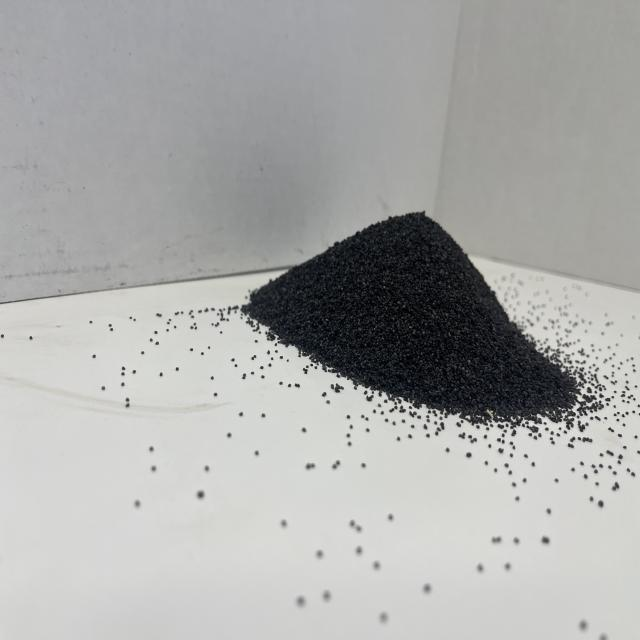Poppy Seeds: (244, 206, 588, 438)
